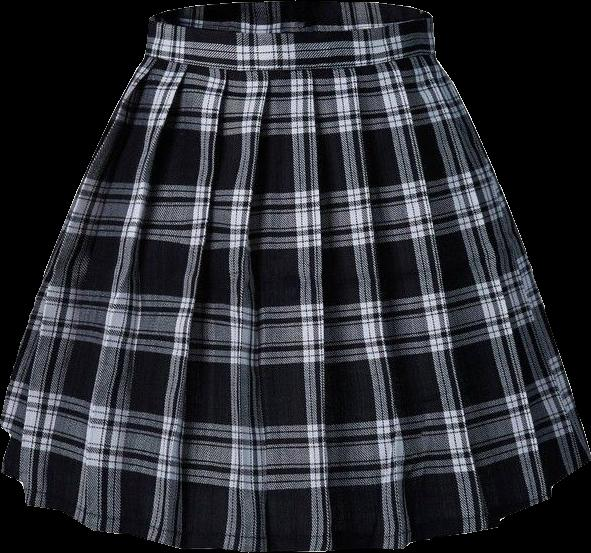Hemline: (0, 419, 590, 552)
Waistline: (142, 43, 440, 74), (148, 12, 435, 42)
